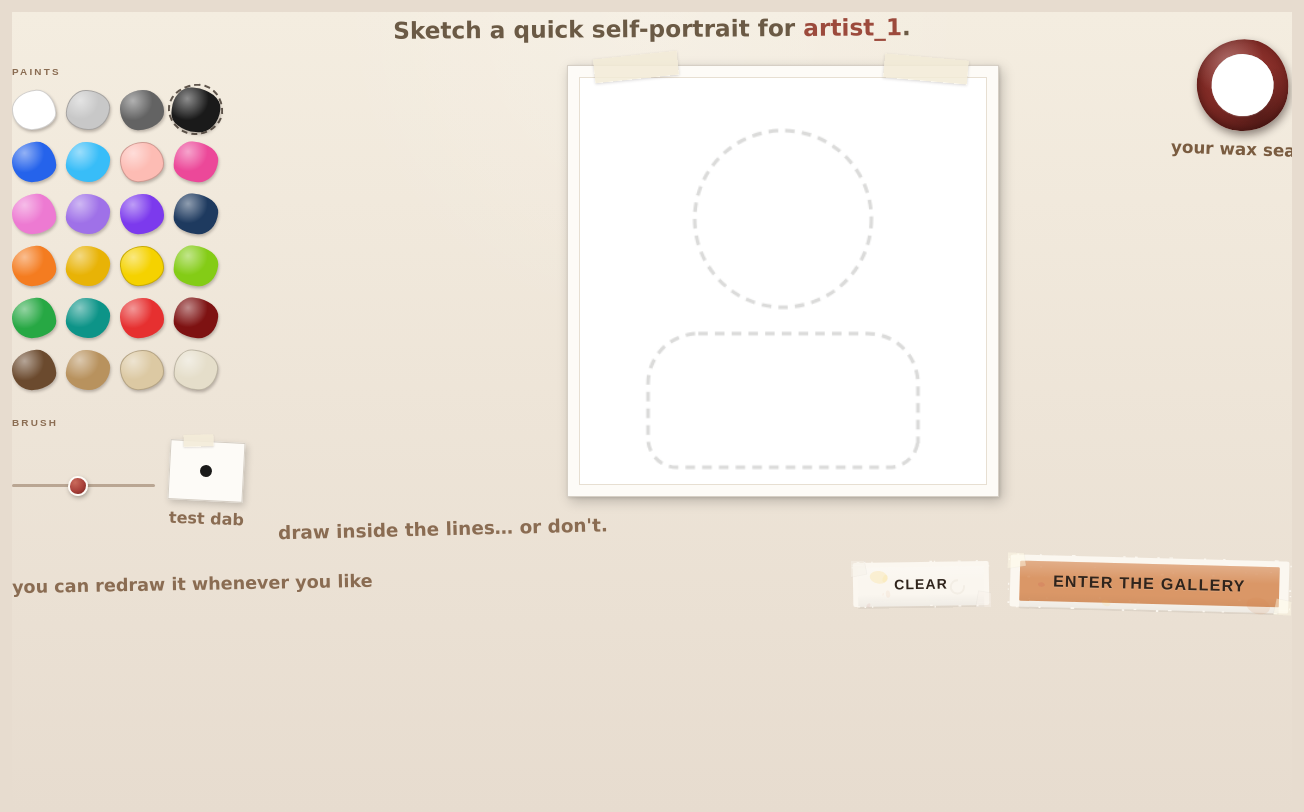
Test case: AvatarSketchpad › shows a retryable save error and stays in the avatar step when persistence fails
Click the button "Enter the gallery" at (1149, 584), box [1007,553,1292,616]
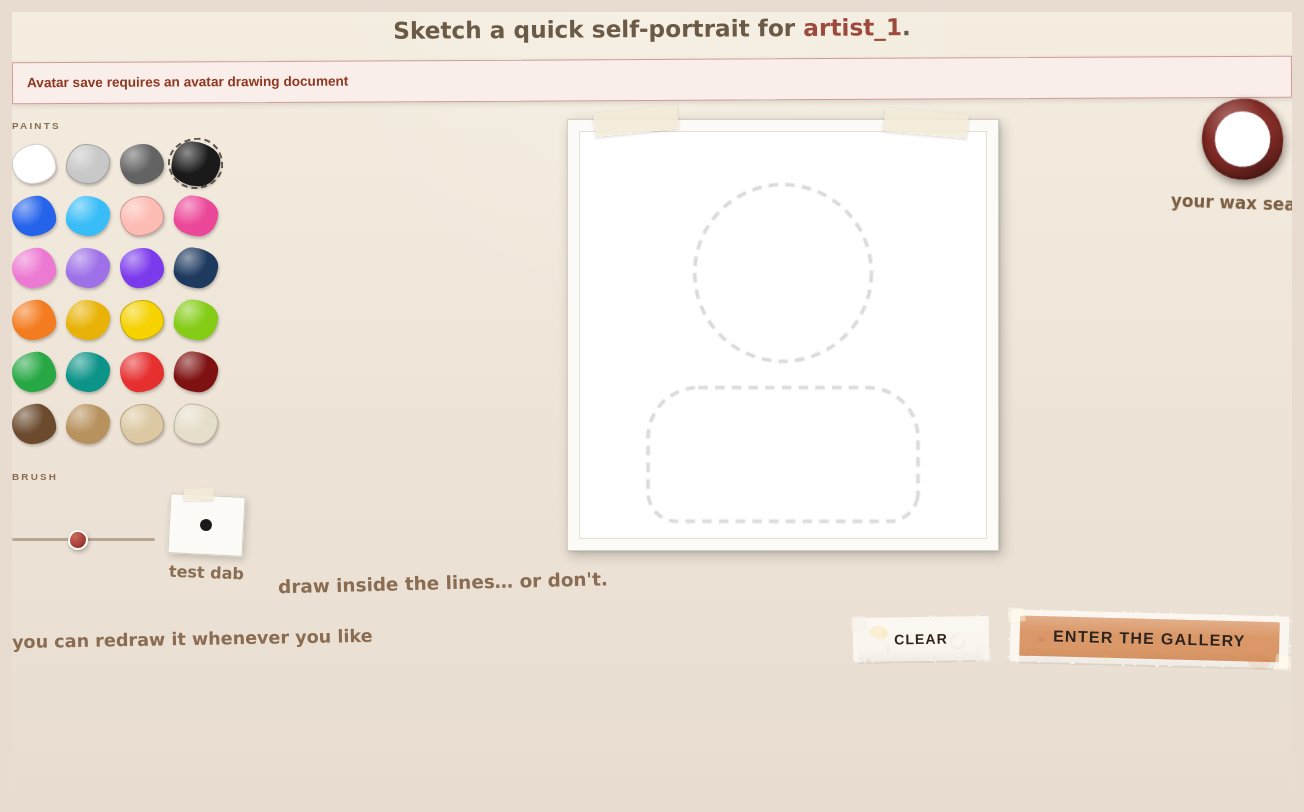
Now the text "Avatar save requires an avatar drawing document" is shown, box [12,55,1292,104]
